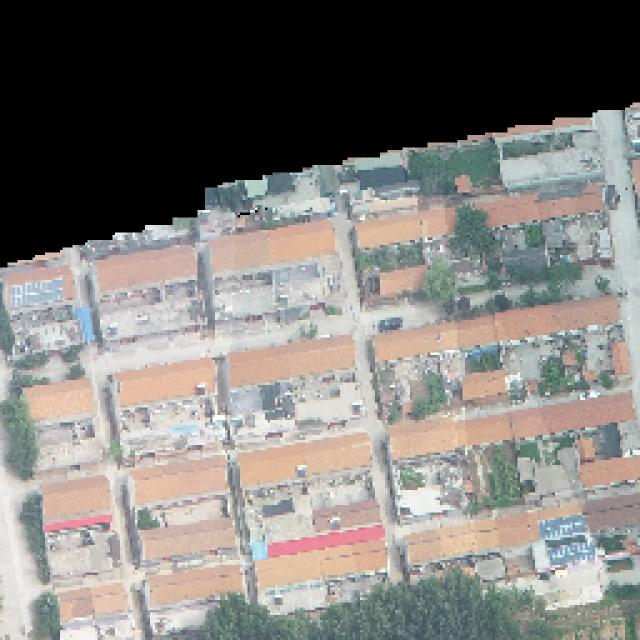Batiment: (391, 396, 631, 458), (241, 434, 368, 486), (211, 220, 332, 274), (230, 335, 354, 387), (375, 317, 494, 361), (477, 186, 601, 227), (498, 298, 616, 341), (96, 245, 195, 293), (117, 358, 215, 406), (97, 248, 196, 292), (132, 458, 225, 504), (358, 209, 455, 248), (42, 479, 109, 523), (5, 267, 72, 309), (26, 382, 92, 419), (581, 457, 640, 487), (462, 372, 505, 401), (610, 340, 630, 377), (578, 439, 594, 461)
